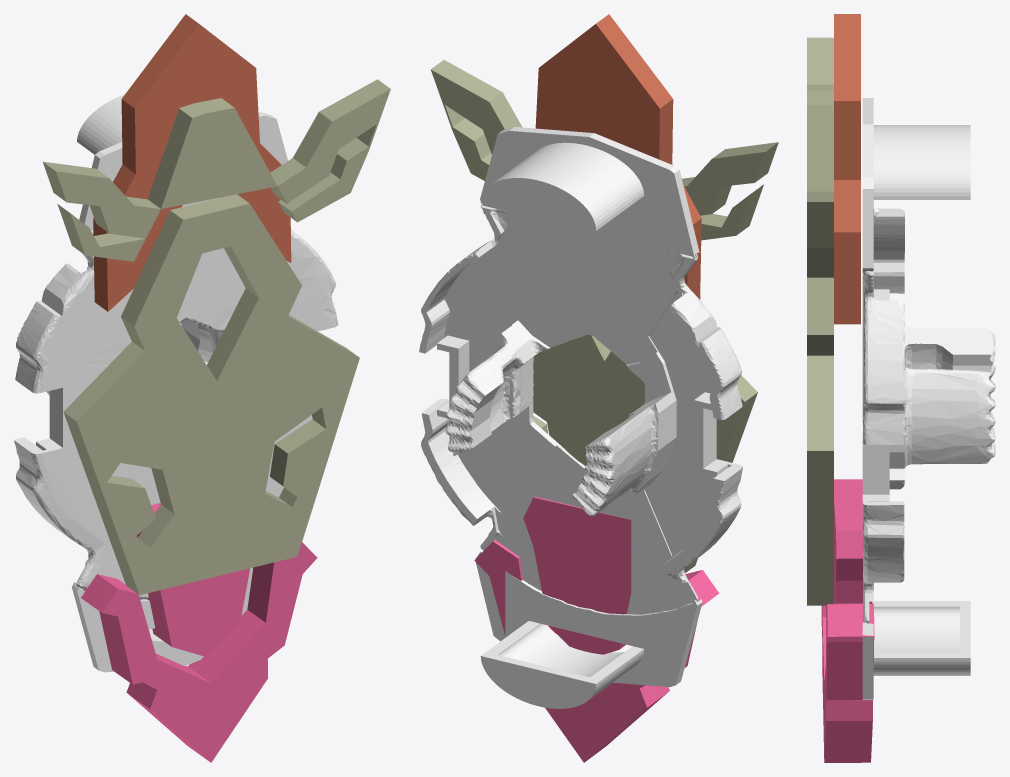
The model's file is gtbusterchip.obj.
The picture shows the model from 3 angles, left to right: view 1: azimuth 30°, elevation 25°; view 2: azimuth 150°, elevation 25°; view 3: azimuth 270°, elevation 25°; orthographic projection.
Parts seen in each view (by area): view 1: group_0_11909273, group_0_16448250, group_0_16345508, group_0_13463636; view 2: group_0_16448250, group_0_11909273, group_0_16345508, group_0_13463636; view 3: group_0_16448250, group_0_11909273, group_0_16345508, group_0_13463636.
Boxes of the visible parts, x1,y1,x2,y2 form: group_0_11909273: (43,79,390,595); group_0_16448250: (14,94,338,672); group_0_16345508: (81,503,317,762); group_0_13463636: (93,14,291,311); group_0_16448250: (419,127,742,708); group_0_11909273: (430,60,778,572); group_0_16345508: (474,496,719,762); group_0_13463636: (535,14,701,299); group_0_16448250: (862,98,995,699); group_0_11909273: (807,37,833,605); group_0_16345508: (821,479,874,762); group_0_13463636: (834,14,860,324).
Bounding box in the file's own units: 29 × 61.01 × 14.
